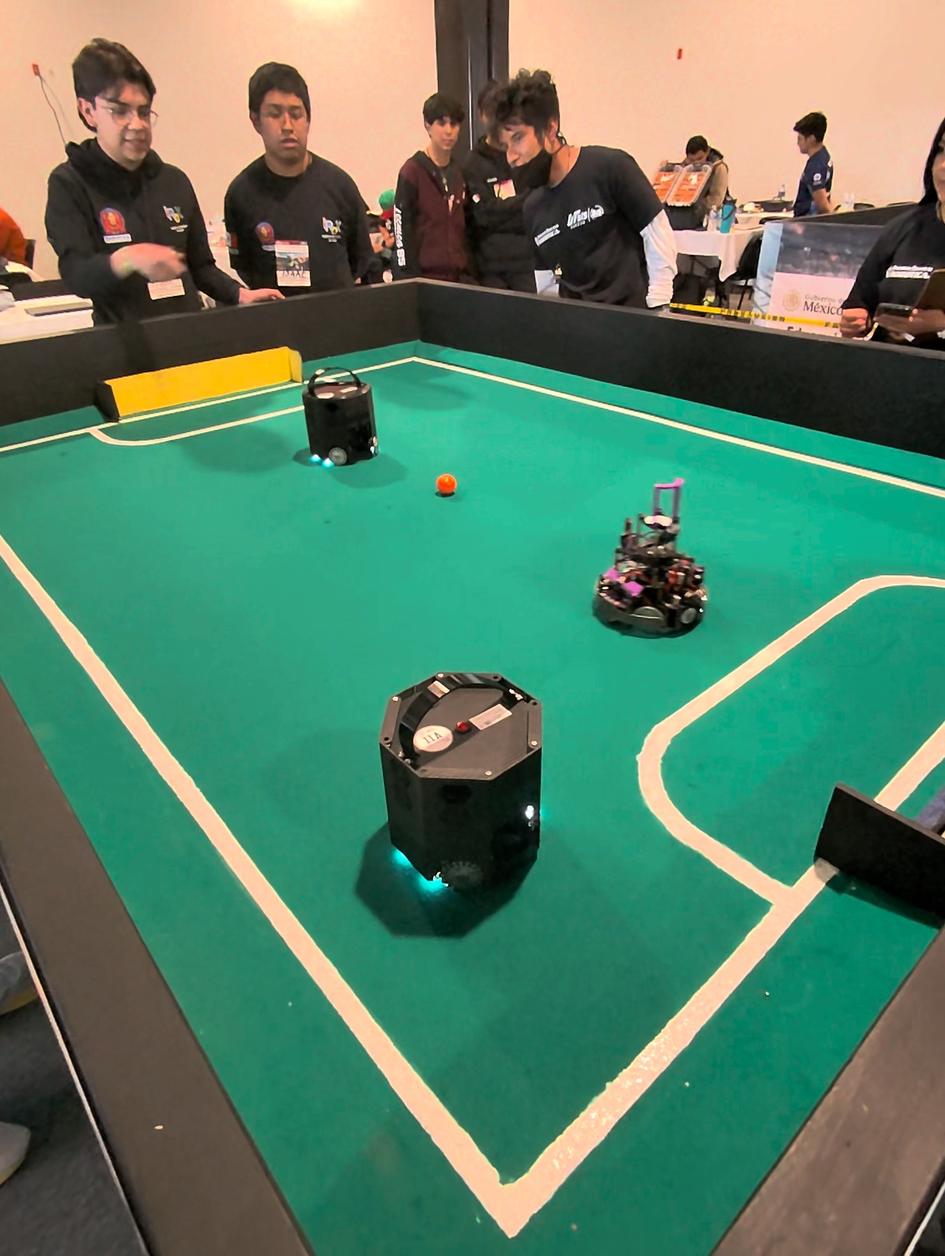Robot: (362, 643, 543, 957), (592, 495, 707, 647), (294, 364, 384, 488)
pelota: (435, 476, 457, 496)
